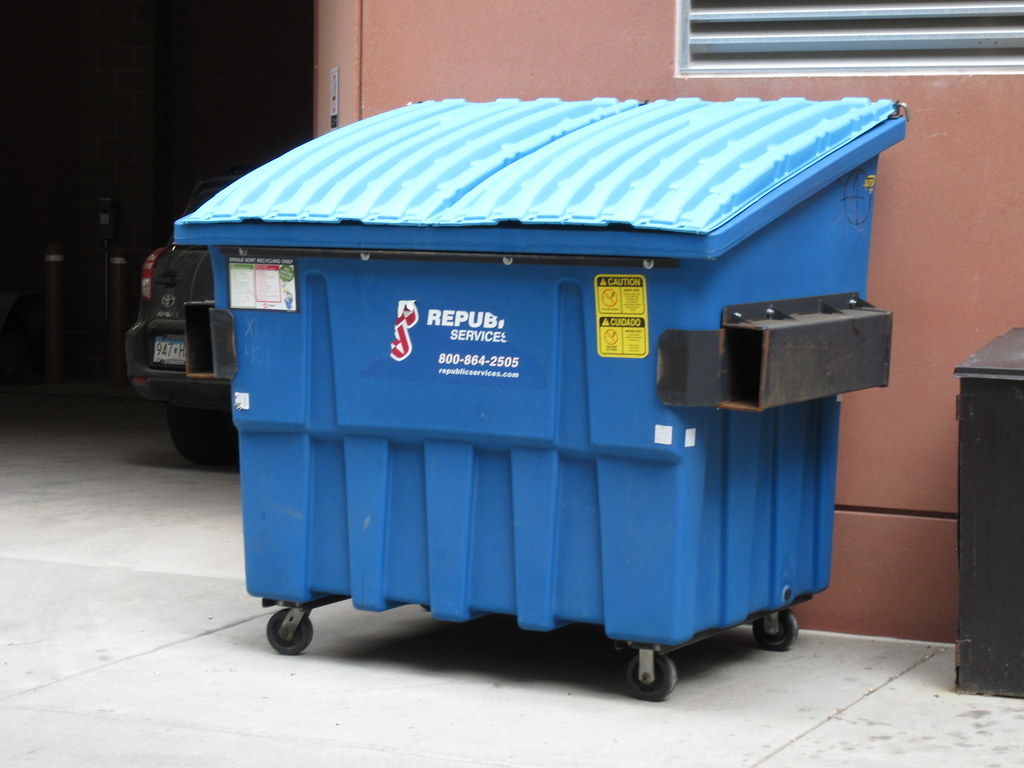Dumpster: (162, 96, 926, 705)
